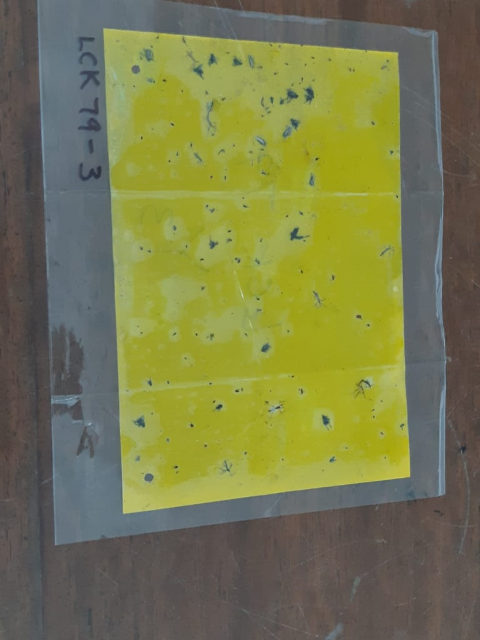DBM: (255, 135, 268, 147), (282, 125, 292, 138), (248, 53, 255, 70)
